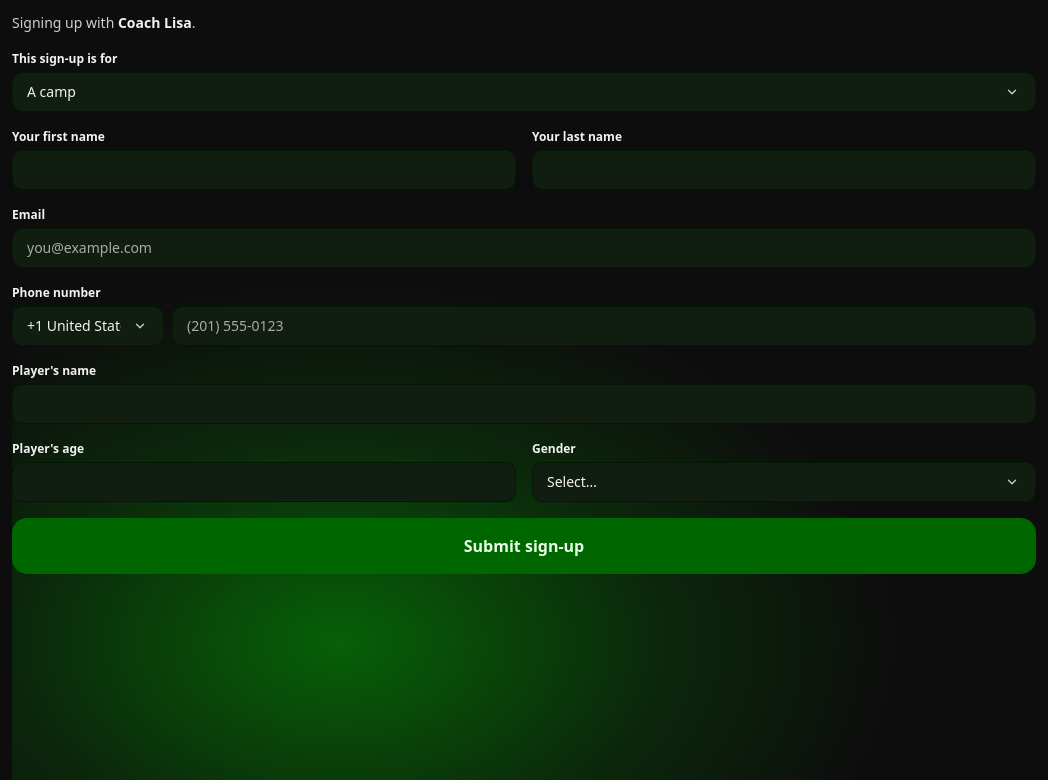
Test: CampSignupFlow › validates the age before posting
Check: the field labelled "Email" is shown, box [12,228,1036,268]
Type "150" into the field labelled "Player's age" at (264,482), box [12,462,516,502]
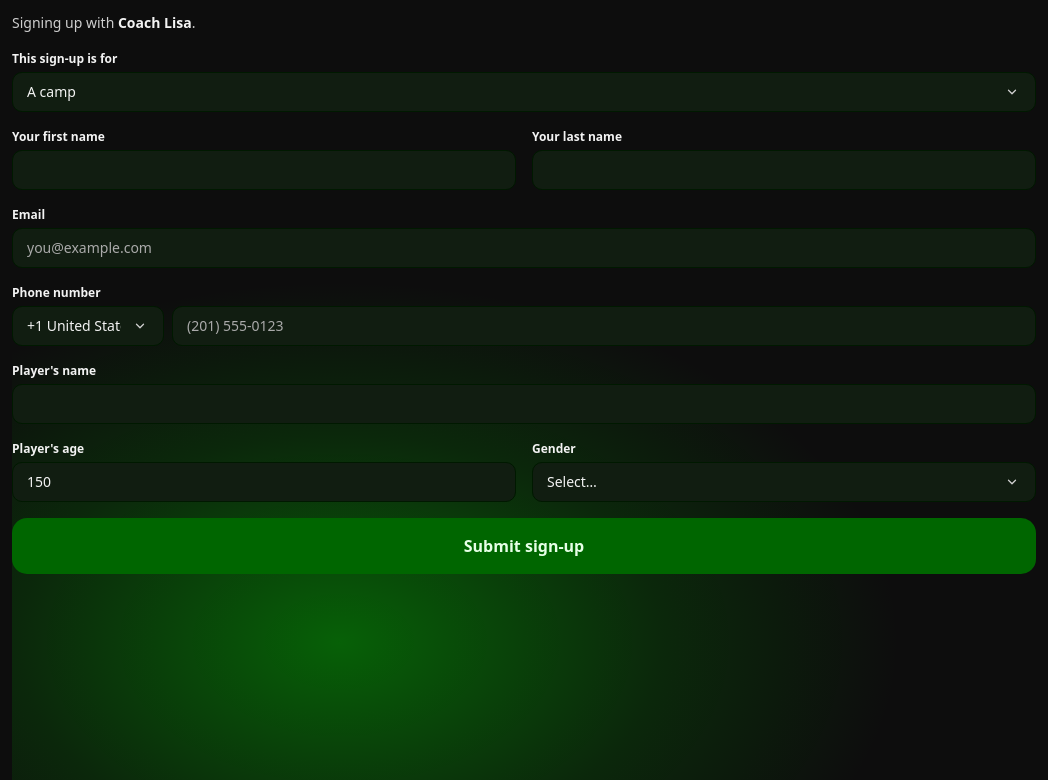
Click the button "Submit sign-up" at (524,546), box [12,518,1036,574]
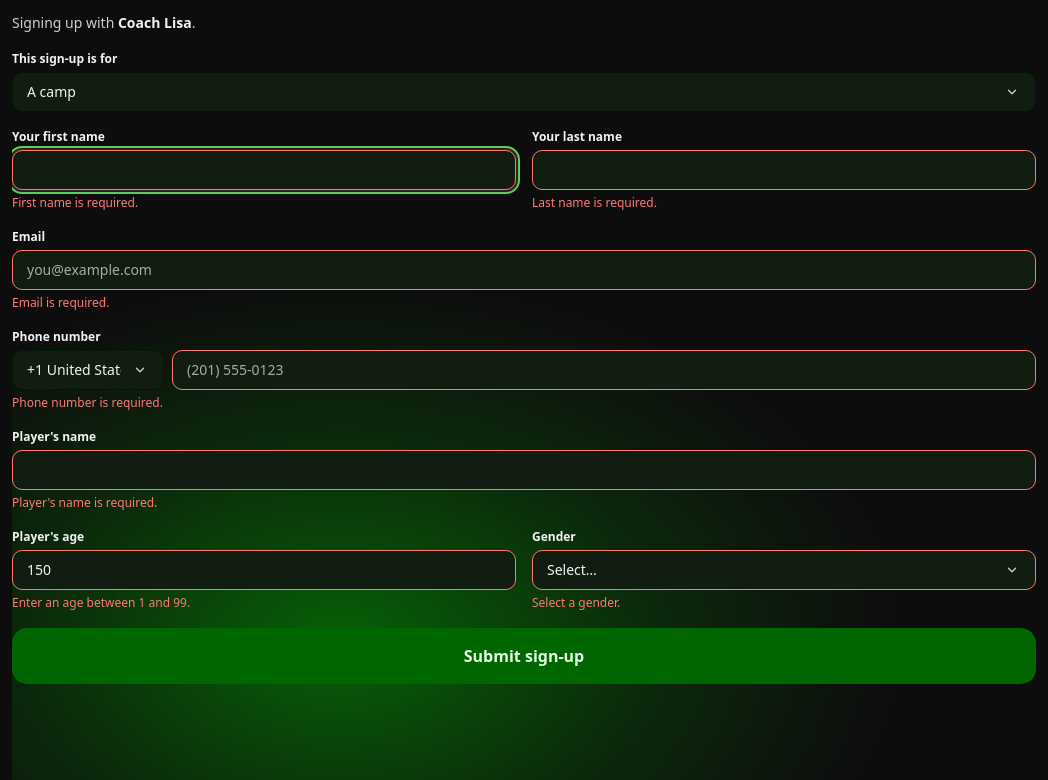
Check: the text "Enter an age between 1 and 99." is shown, box [12,594,190,611]
